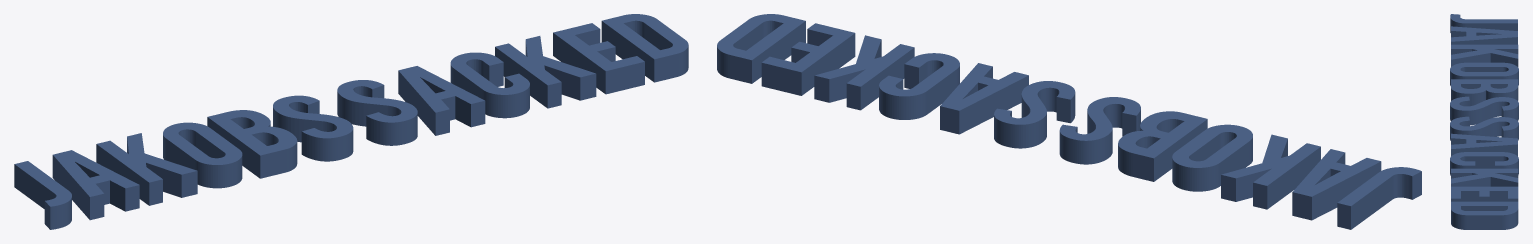
Rendered from macks.glb.
3 renders of one model, left to right at view 1: azimuth 30°, elevation 25°; view 2: azimuth 150°, elevation 25°; view 3: azimuth 270°, elevation 25°, orthographic. The views are drawn at different scales.
Visible parts, largest first — view 1: Mesh_Mesh_head_geo.001_lambert2SG.001; view 2: Mesh_Mesh_head_geo.001_lambert2SG.001; view 3: Mesh_Mesh_head_geo.001_lambert2SG.001.
Part boxes in pixels (left/top/right/bottom): Mesh_Mesh_head_geo.001_lambert2SG.001: left=14, top=14, right=688, bottom=229; Mesh_Mesh_head_geo.001_lambert2SG.001: left=717, top=14, right=1421, bottom=229; Mesh_Mesh_head_geo.001_lambert2SG.001: left=1450, top=14, right=1518, bottom=229.
Bounding box in the file's own units: 0.7248 × 0.0249 × 0.1048.
